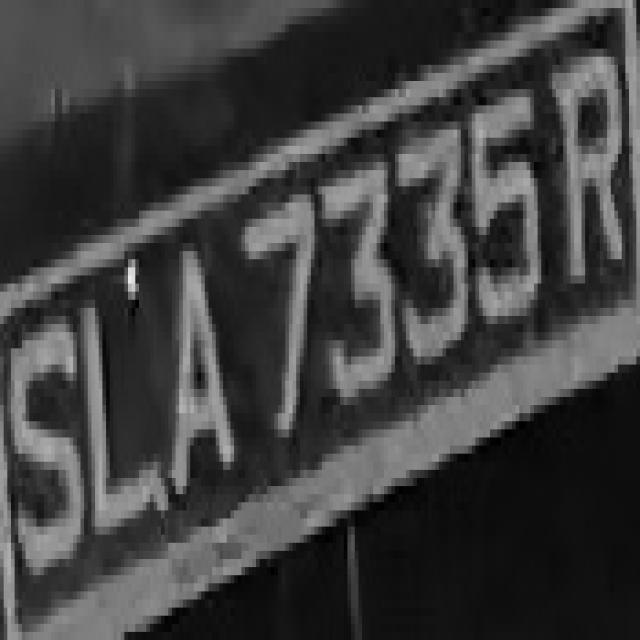3: (307, 146, 399, 421), (380, 121, 476, 372)
5: (464, 73, 538, 332)
7: (238, 178, 318, 470)
A: (154, 235, 242, 559)
L: (73, 267, 165, 551)
R: (545, 40, 625, 316)
S: (4, 300, 84, 583)
